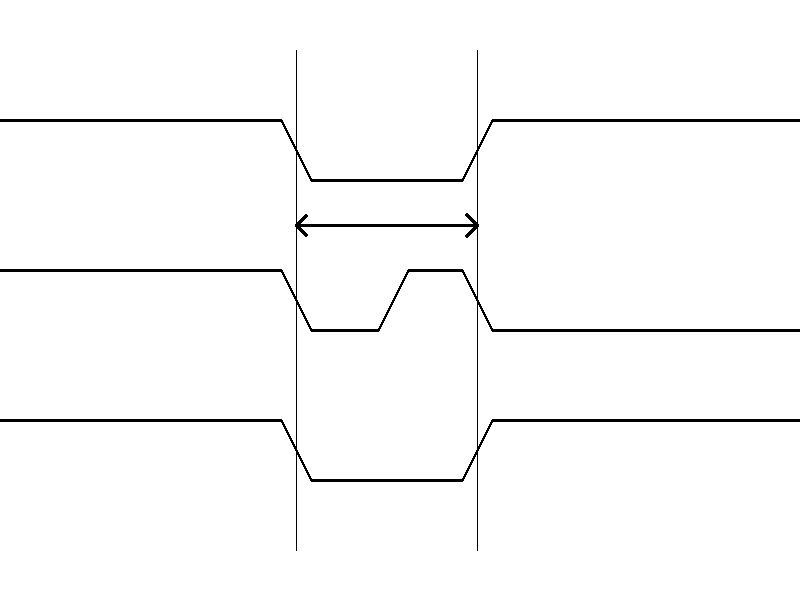double_arrow: (296, 210, 477, 240)
